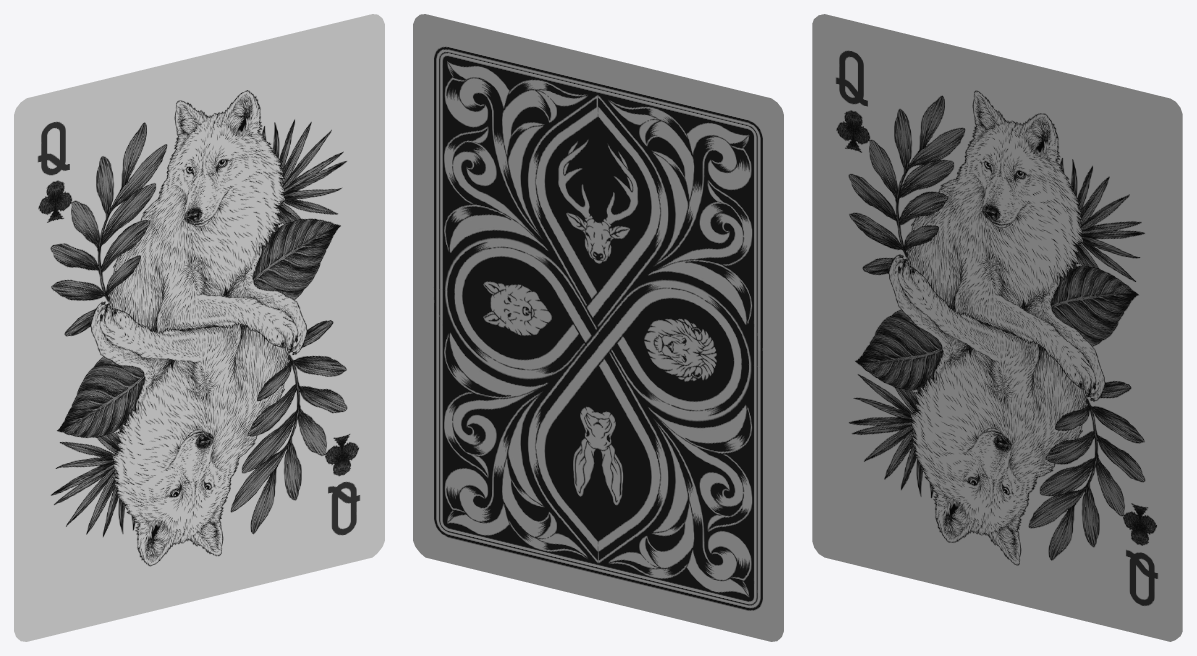
3 views of the same model, side by side, from view 1: azimuth 30°, elevation 25°; view 2: azimuth 150°, elevation 25°; view 3: azimuth 330°, elevation 25° (orthographic).
Parts seen in each view (by area): view 1: Node; view 2: Node; view 3: Node.
Boxes of the visible parts, x1,y1,x2,y2 form: Node: [14, 14, 384, 641]; Node: [413, 14, 783, 641]; Node: [812, 14, 1182, 641].
Bounding box in the file's own units: 1.5 × 2.1 × 7.08e-05.
Materials: 1 (1 with a texture image).
